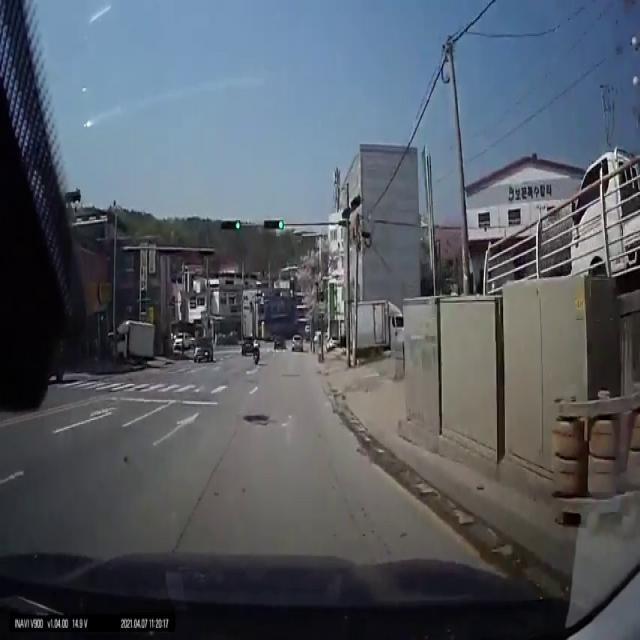Pothole: (243, 411, 270, 424)
